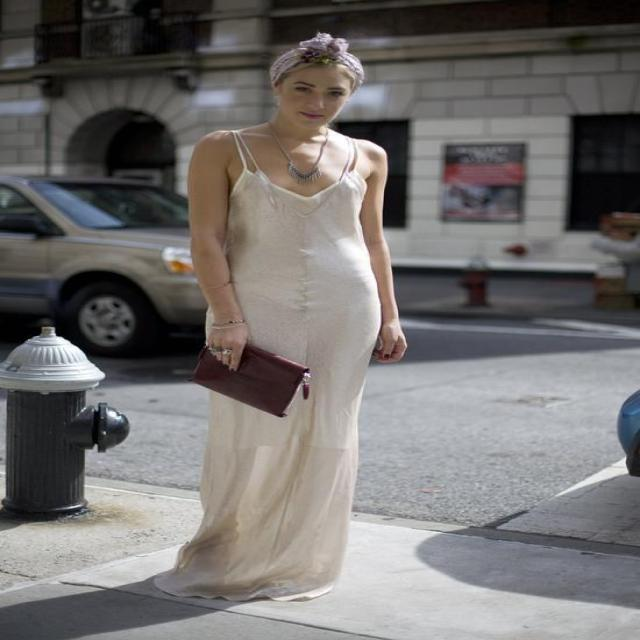dress: (157, 129, 382, 607)
